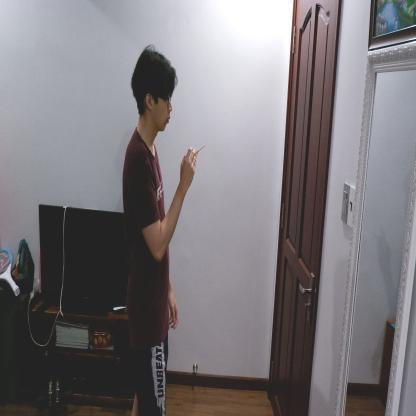cigarette: (194, 143, 206, 157)
person: (118, 42, 196, 415)
